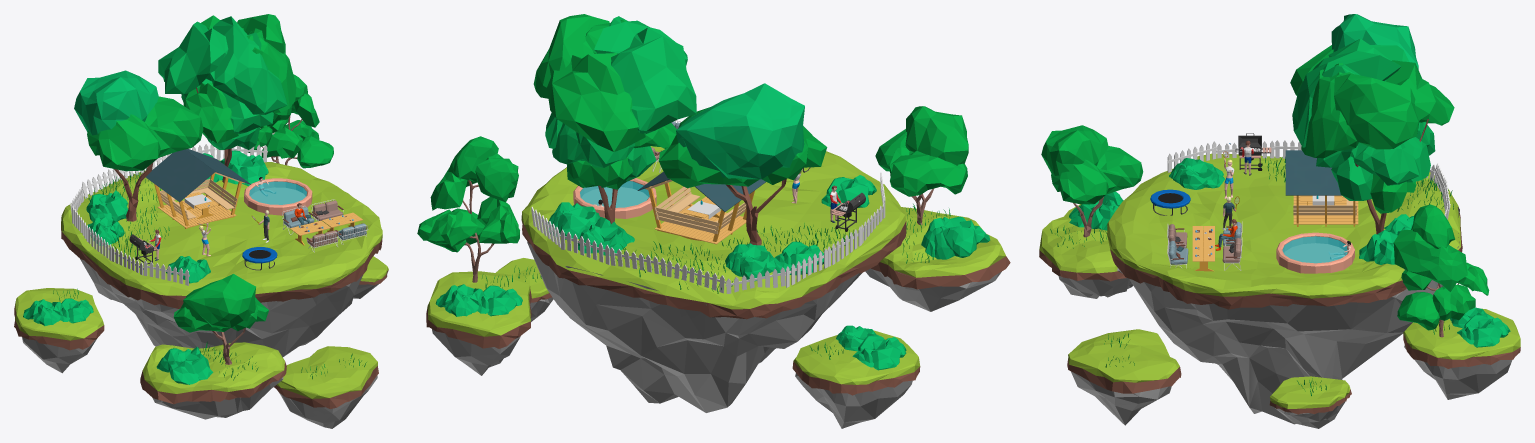
The model's file is land_61.fbx.
The picture shows the model from 3 angles, left to right: view 1: azimuth 30°, elevation 25°; view 2: azimuth 150°, elevation 25°; view 3: azimuth 270°, elevation 25°; orthographic projection. The views are drawn at different scales.
Parts seen in each view (by area): view 1: polySurface2903, land_61.106, land_61.122, polySurface2900, polySurface2899, land_61.076, polySurface2901.001, land_76.133, land_76.132, land_61.160, land_61.148, land_61.095 (+18 smaller); view 2: polySurface2903, land_61.106, land_61.122, land_76.132, polySurface2900, polySurface2901.001, land_76.133, polySurface2901, land_61.076, land_61.148, land_61.160, land_61.075 (+16 smaller); view 3: polySurface2903, land_61.106, land_76.132, polySurface2899, land_76.133, polySurface2901, polySurface2900, land_61.076, polySurface2902, land_61.122, land_61.160, land_61.096 (+8 smaller).
Part boxes in pixels (x1,y1,x2,y2): polySurface2903: [61, 160, 382, 357]; land_61.106: [158, 14, 296, 182]; land_61.122: [74, 70, 203, 221]; polySurface2900: [140, 342, 286, 419]; polySurface2899: [274, 346, 378, 428]; land_61.076: [145, 149, 250, 228]; polySurface2901.001: [14, 288, 104, 373]; land_76.133: [173, 274, 268, 364]; land_76.132: [247, 74, 333, 168]; land_61.160: [244, 178, 312, 215]; land_61.148: [156, 347, 213, 384]; land_61.095: [220, 150, 268, 186]; polySurface2903: [521, 146, 906, 412]; land_61.106: [533, 14, 696, 223]; land_61.122: [659, 83, 827, 245]; land_76.132: [417, 136, 519, 282]; polySurface2900: [865, 207, 1010, 311]; polySurface2901.001: [792, 330, 920, 428]; land_76.133: [875, 106, 968, 224]; polySurface2901: [426, 271, 531, 375]; land_61.076: [637, 171, 765, 244]; land_61.148: [921, 216, 990, 259]; land_61.160: [573, 178, 656, 218]; land_61.075: [725, 243, 782, 281]; polySurface2903: [1107, 153, 1462, 424]; land_61.106: [1292, 38, 1454, 234]; land_76.132: [1393, 204, 1489, 337]; polySurface2899: [1067, 329, 1181, 425]; land_76.133: [1041, 125, 1143, 237]; polySurface2901: [1403, 308, 1520, 399]; polySurface2900: [1039, 204, 1133, 298]; land_61.076: [1285, 150, 1358, 226]; polySurface2902: [1269, 376, 1351, 428]; land_61.122: [1290, 14, 1418, 95]; land_61.160: [1276, 232, 1354, 273]; land_61.096: [1169, 158, 1224, 189].
Bounding box in the file's own units: 21.36 × 19.09 × 22.
